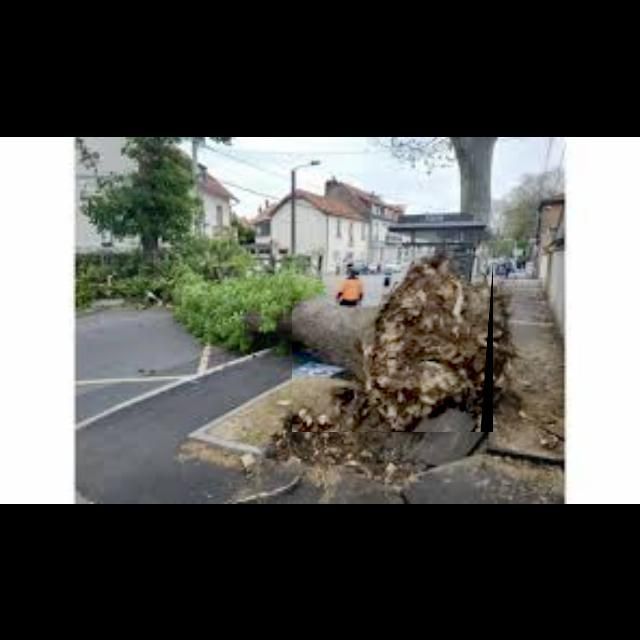fallen_tree: (292, 249, 494, 433)
